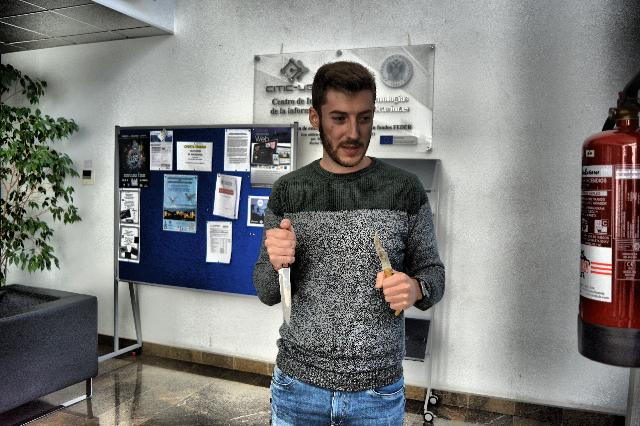knife: (370, 230, 404, 316), (276, 260, 296, 328)
